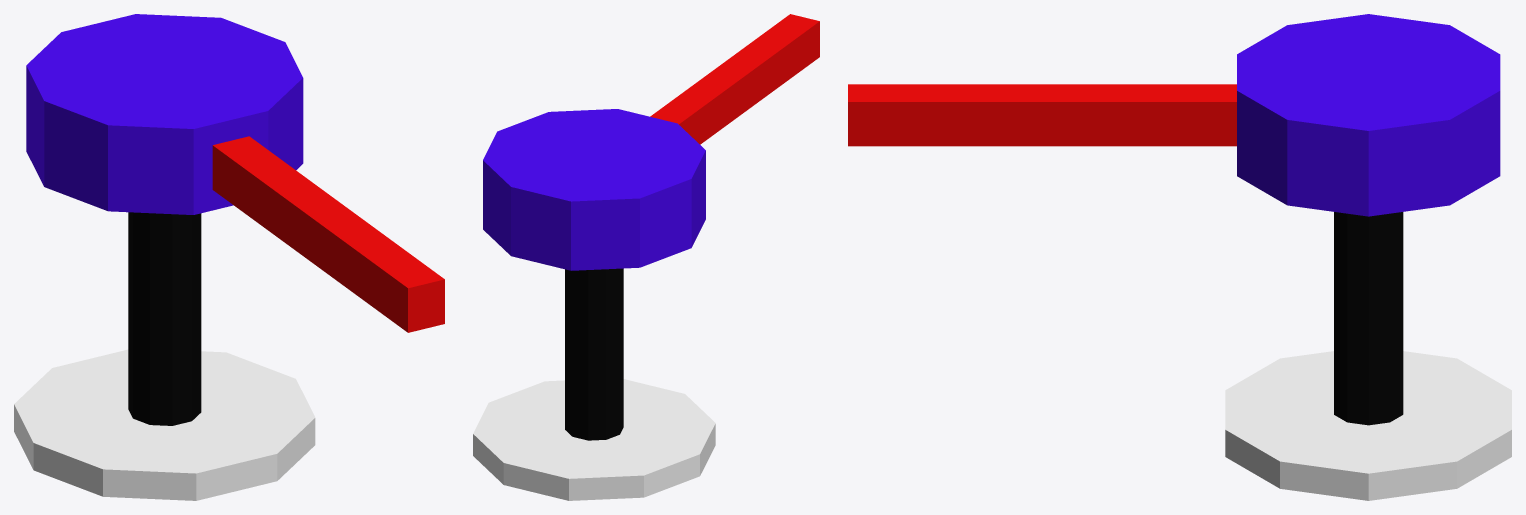
The model's file is gun.fbx.
3 renders of one model, left to right at view 1: azimuth 30°, elevation 25°; view 2: azimuth 150°, elevation 25°; view 3: azimuth 270°, elevation 25°, orthographic. The views are drawn at different scales.
Visible parts, largest first — view 1: Cylinder; view 2: Cylinder; view 3: Cylinder.
Part boxes in pixels (x1=…): Cylinder: x1=14, y1=14, x2=444, y2=500; Cylinder: x1=473, y1=14, x2=819, y2=500; Cylinder: x1=848, y1=14, x2=1511, y2=500.
Size of the model in its own units: 13.15 by 28.98 by 17.57.
